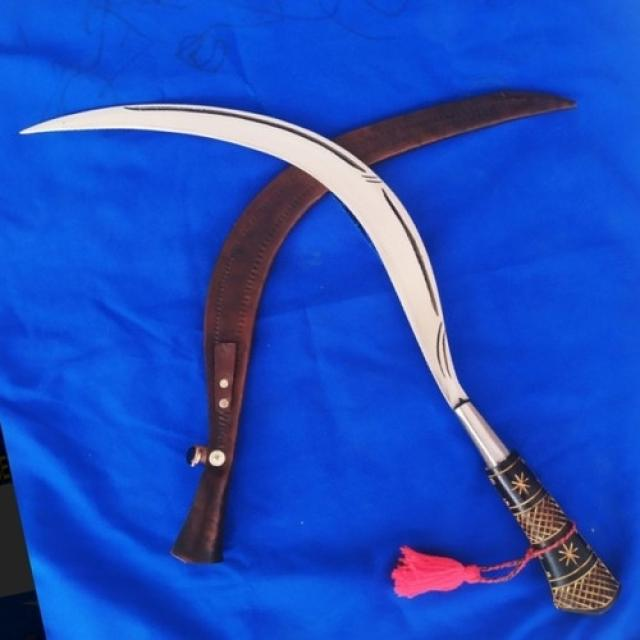Celurit: (21, 101, 620, 616)
